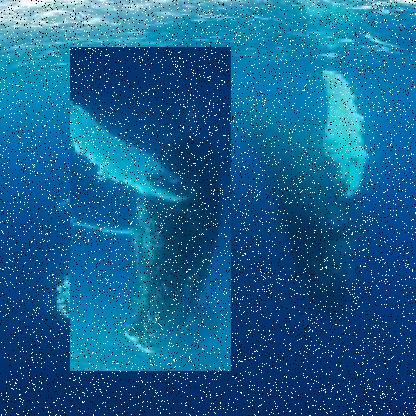blue_whale: (182, 41, 375, 351), (70, 47, 232, 372)
